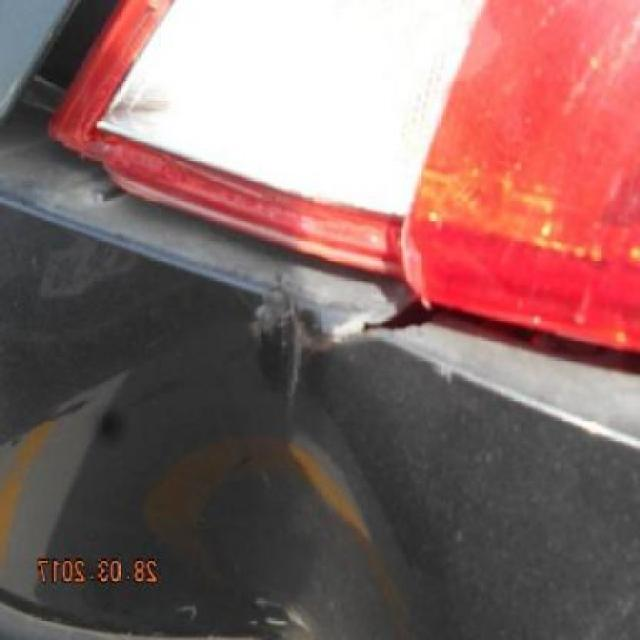damage: (233, 285, 359, 366), (339, 295, 443, 343)
